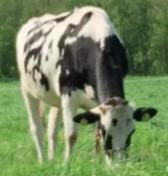cow: (17, 8, 156, 167)
